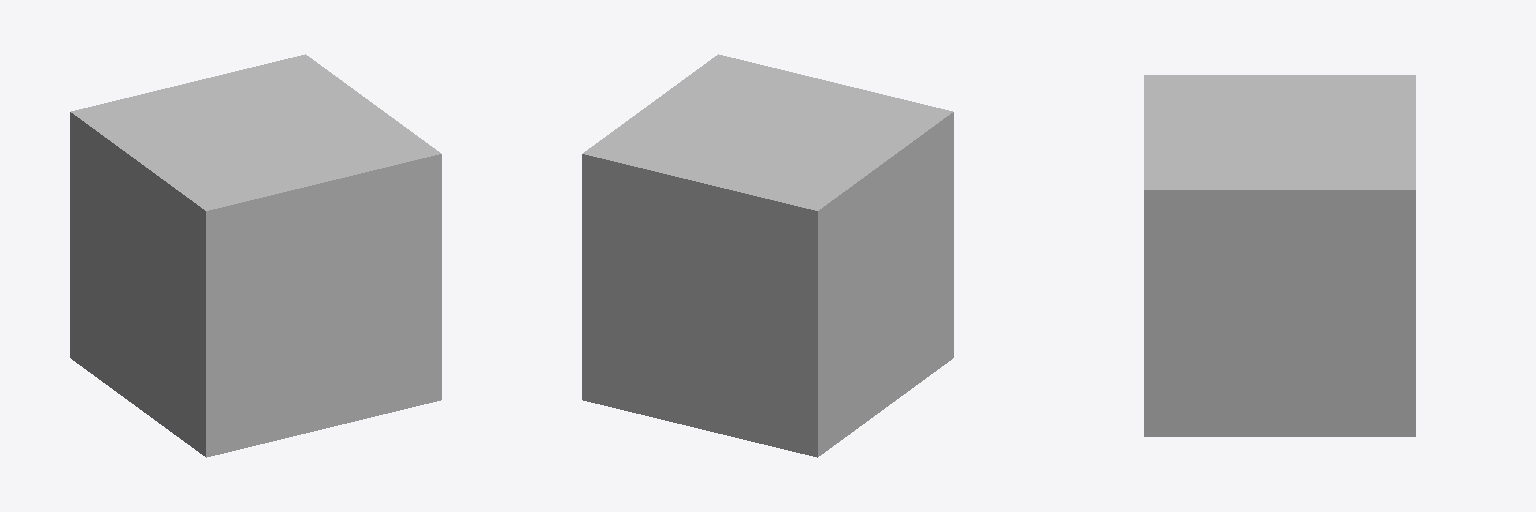
The model's file is cubes_wall1.obj.
3 views of the same model, side by side, from view 1: azimuth 30°, elevation 25°; view 2: azimuth 150°, elevation 25°; view 3: azimuth 270°, elevation 25° (orthographic).
Bounding box in the file's own units: 0.1 × 0.1 × 0.1.